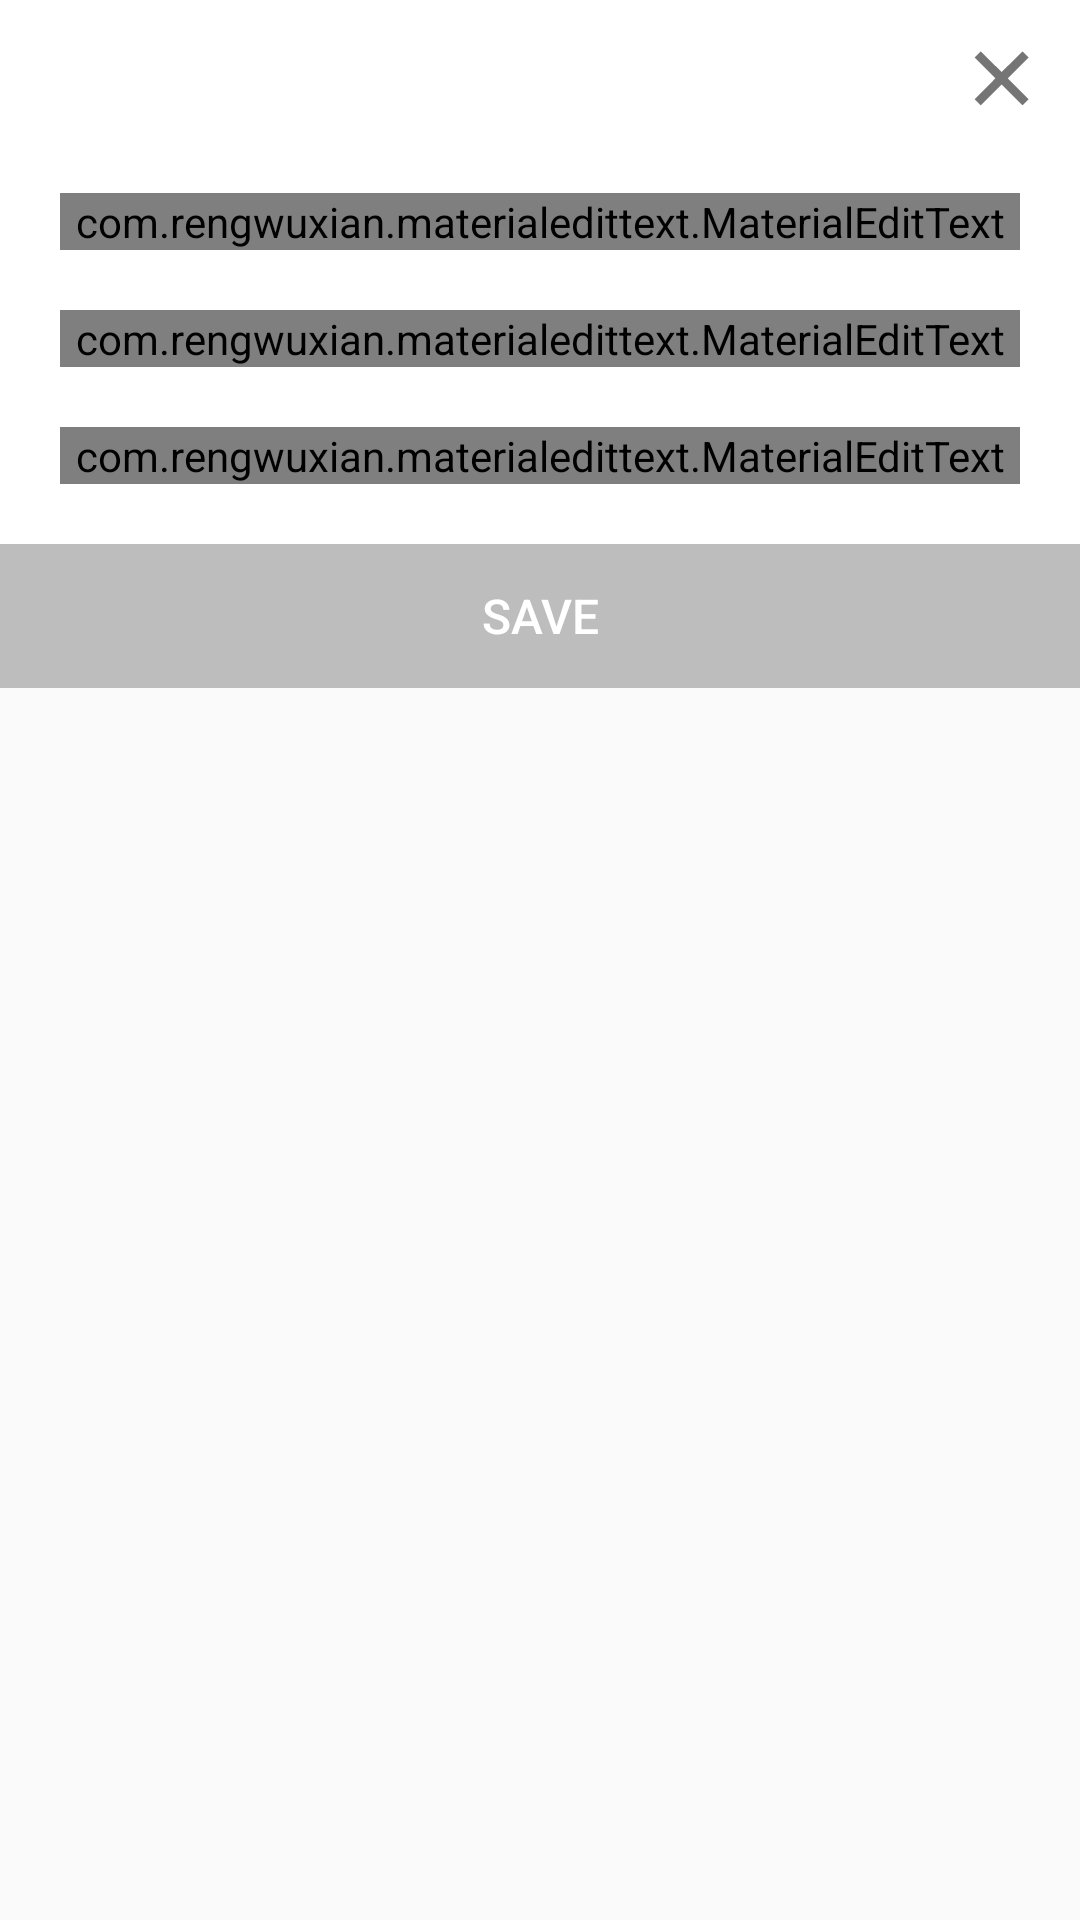

Where to tap for icons on this 1080×1920 app screen, as (x=x, y=y):
close: (x=1002, y=78)
